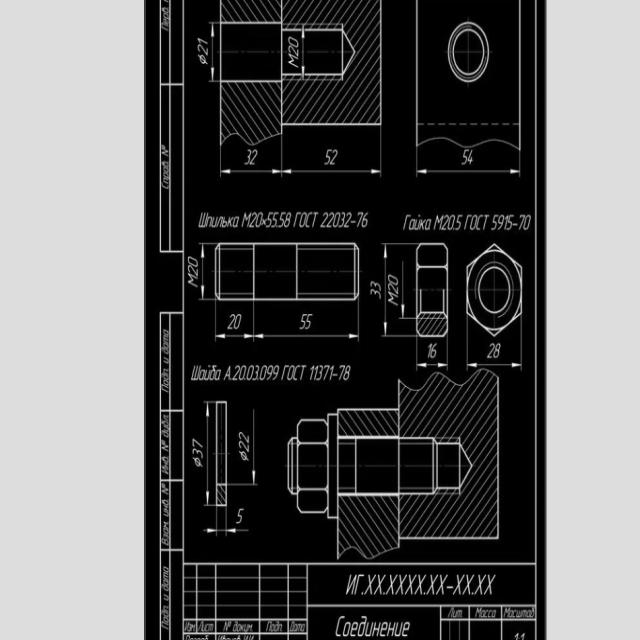marking_line: (279, 135, 384, 177), (252, 301, 358, 342), (381, 242, 415, 338), (416, 151, 522, 180), (229, 410, 260, 486), (465, 338, 523, 369), (219, 149, 283, 176), (213, 303, 254, 342), (203, 400, 215, 507), (396, 261, 416, 321), (195, 241, 214, 303), (415, 337, 449, 371), (504, 330, 525, 372), (208, 21, 220, 84), (464, 326, 483, 365), (224, 509, 246, 537), (202, 508, 220, 537), (300, 30, 306, 73)
numeric: (190, 436, 203, 449), (233, 312, 242, 330), (344, 364, 353, 382), (196, 42, 208, 55), (387, 282, 400, 294), (251, 147, 259, 166), (227, 310, 235, 329), (299, 311, 307, 330), (322, 363, 330, 382), (337, 363, 345, 382), (243, 149, 252, 165), (361, 212, 370, 228), (249, 211, 257, 229), (188, 265, 200, 277), (486, 342, 495, 358), (236, 506, 244, 524), (356, 209, 363, 229), (321, 209, 328, 229), (448, 214, 456, 231), (506, 214, 514, 231), (523, 215, 532, 230), (288, 46, 300, 57), (196, 37, 209, 47), (192, 449, 205, 459), (330, 149, 338, 165), (256, 212, 264, 228), (455, 215, 463, 231), (518, 214, 526, 230), (467, 148, 474, 166), (344, 211, 351, 229), (266, 211, 273, 229), (272, 210, 279, 228), (278, 211, 285, 229), (306, 312, 313, 330), (389, 273, 399, 285), (442, 214, 449, 231), (327, 365, 334, 382), (463, 148, 469, 167), (284, 211, 291, 227), (491, 215, 498, 231), (497, 214, 504, 230), (370, 289, 381, 299), (239, 432, 249, 443), (334, 210, 340, 228), (328, 211, 334, 229), (494, 343, 501, 358), (308, 365, 314, 382), (318, 363, 323, 383), (239, 442, 249, 452), (187, 258, 198, 267), (289, 37, 298, 48), (324, 148, 330, 164), (369, 280, 381, 288), (431, 343, 437, 359), (340, 212, 345, 229), (427, 343, 432, 359), (503, 216, 508, 230), (314, 365, 318, 380)
special_symbol: (197, 52, 208, 68), (192, 456, 203, 471), (238, 450, 249, 462)
